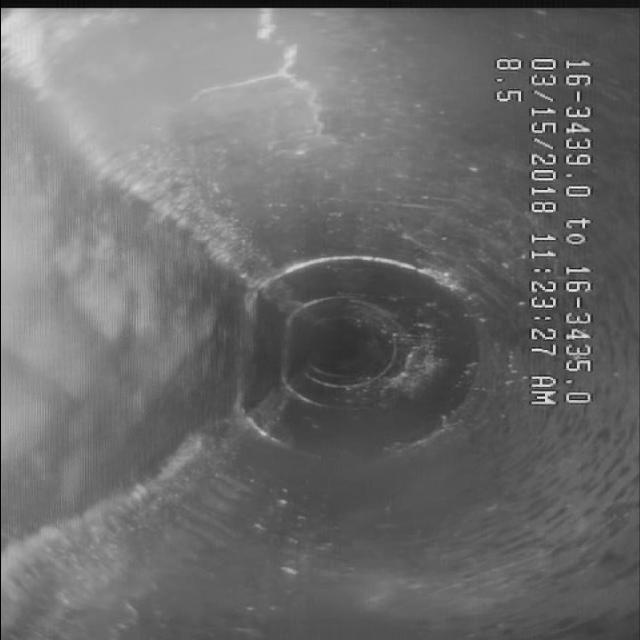Crack: (206, 21, 356, 175)
